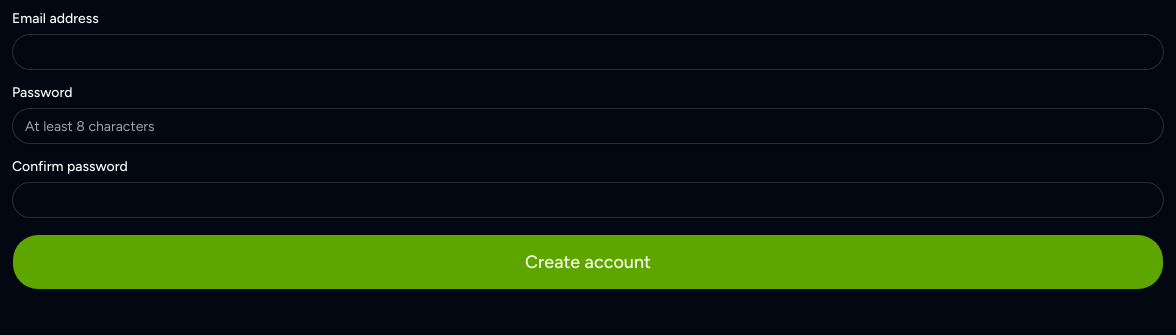
Test: SignupForm - Integration Tests › shows error when password is too short
# Fill form with short password
Type "test@example.com" into the field labelled "Email address" at [588, 52], box [12,34,1164,70]
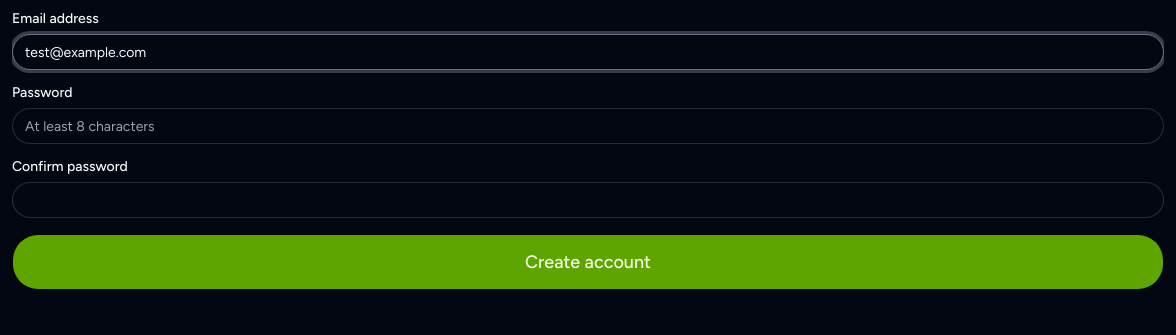
Type "short" into the password field labelled "Password" at [588, 126], box [12,108,1164,144]
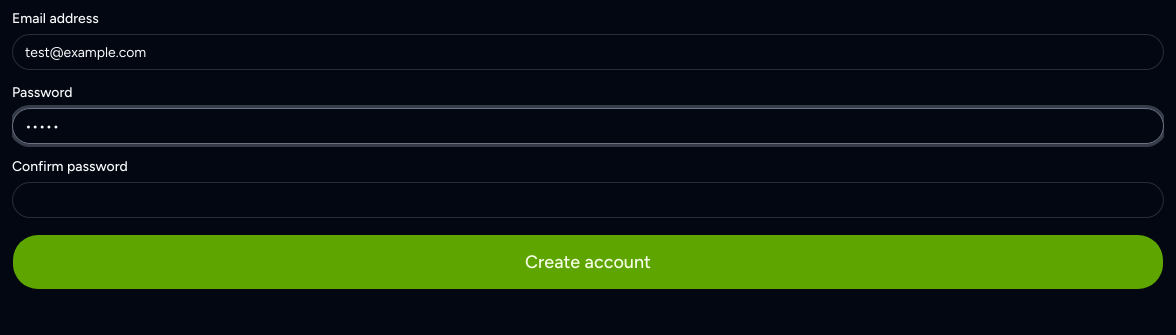
Type "short" into the password field labelled "Confirm password" at [588, 200], box [12,182,1164,218]
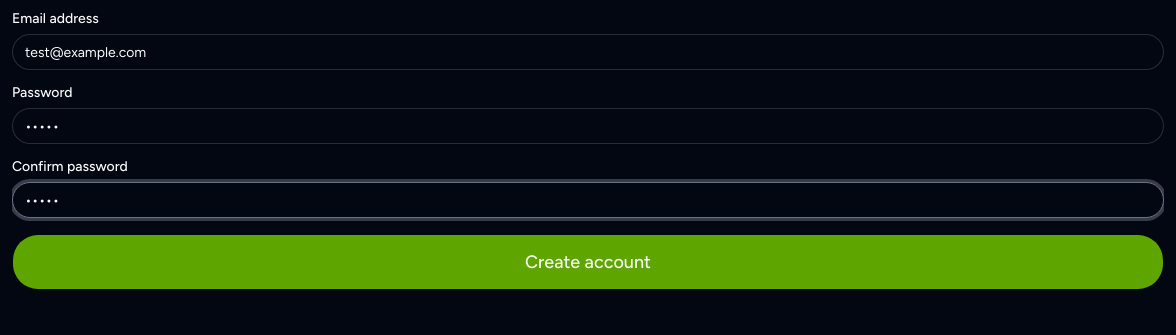
Click the button "Create account" at [588, 262], box [12,234,1164,290]
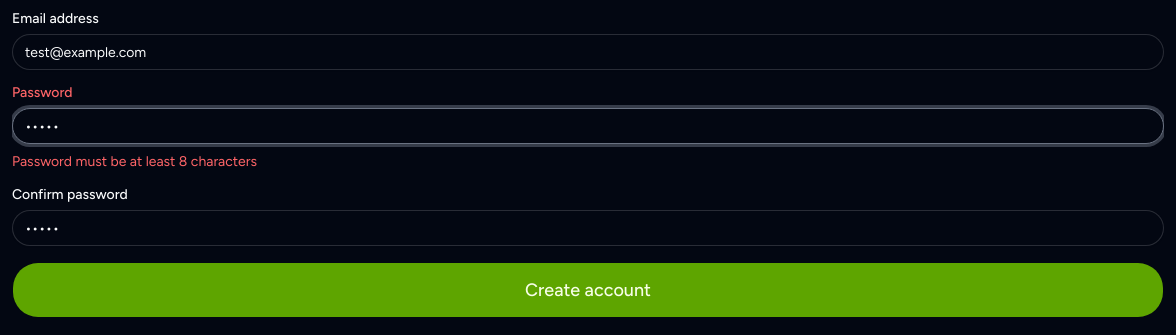
Expected: the button "Create account" is enabled, [12,262,1164,318]
Now the text "Password must be at least 8 characters" is shown, box [12,153,257,170]
